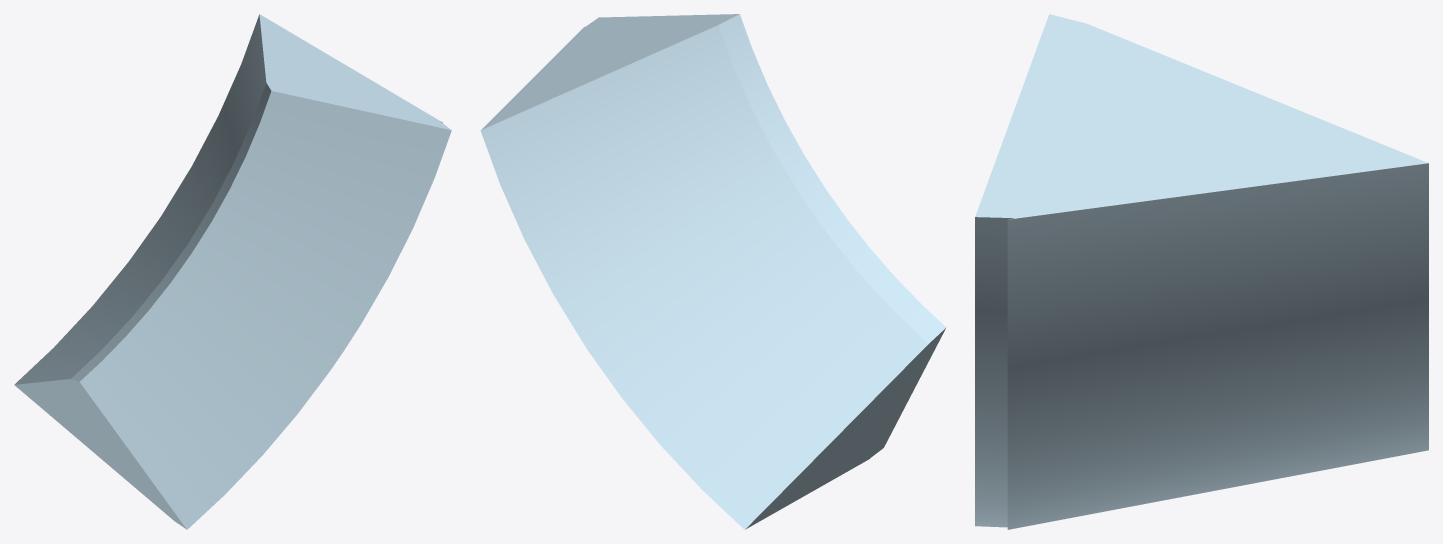
The model's file is Sub_1_Cell_2_3.gltf.
The picture shows the model from 3 angles, left to right: view 1: azimuth 30°, elevation 25°; view 2: azimuth 150°, elevation 25°; view 3: azimuth 270°, elevation 25°; orthographic projection. The views are drawn at different scales.
Parts seen in each view (by area): view 1: Sub_1_Cell_2_3; view 2: Sub_1_Cell_2_3; view 3: Sub_1_Cell_2_3.
Part boxes in pixels (box(x1,y1,x2,y2)): Sub_1_Cell_2_3: box(14, 14, 451, 529); Sub_1_Cell_2_3: box(480, 14, 946, 529); Sub_1_Cell_2_3: box(975, 14, 1428, 529).
Bounding box in the file's own units: 0.0794 × 0.086 × 0.0594.
